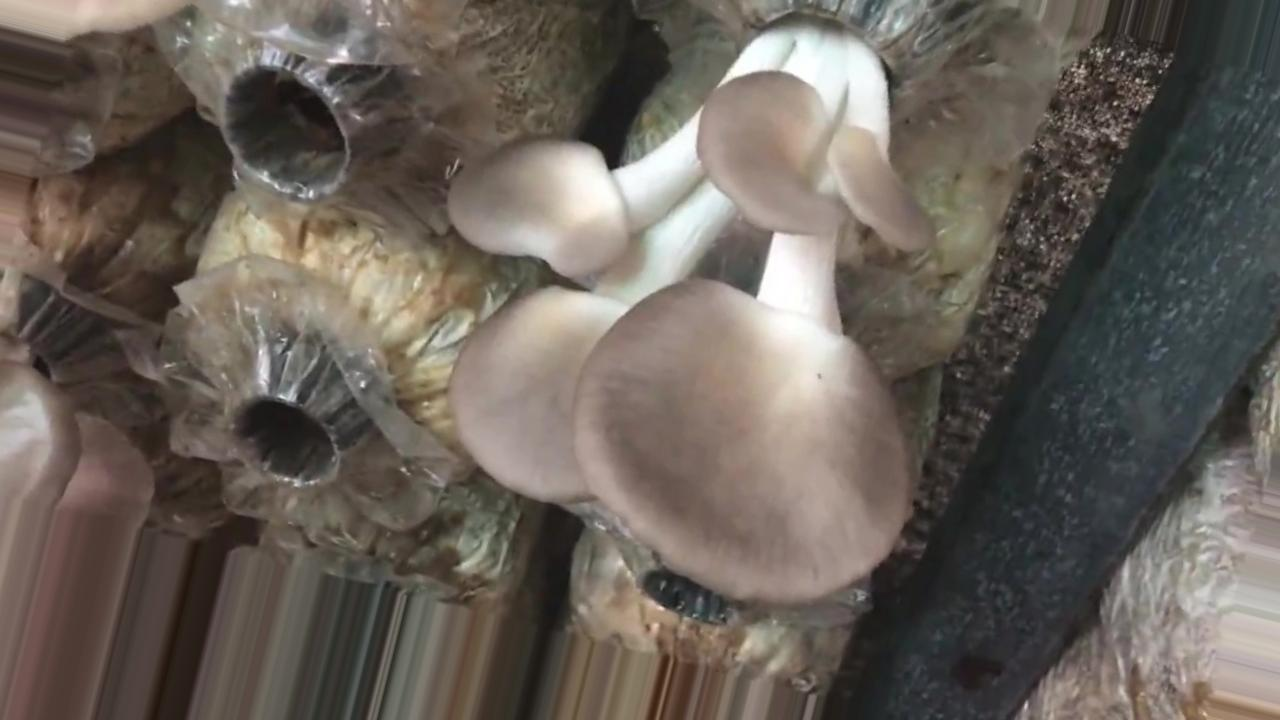nam: (453, 1, 942, 607), (7, 356, 156, 720)
